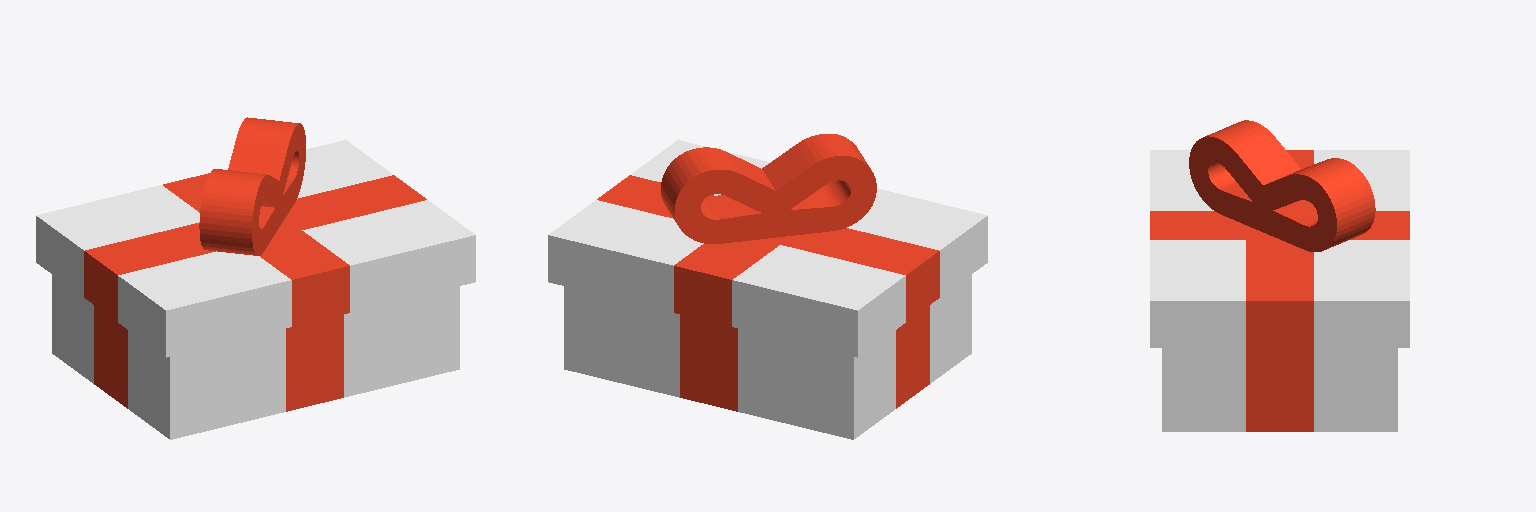
File: presentLow.obj
3 views of the same model, side by side, from view 1: azimuth 30°, elevation 25°; view 2: azimuth 150°, elevation 25°; view 3: azimuth 270°, elevation 25° (orthographic).
Parts seen in each view (by area): view 1: lid, presentLow; view 2: lid, presentLow; view 3: lid, presentLow.
Part boxes in pixels (left/top/right/bottom): lid: left=36, top=117, right=475, bottom=357; presentLow: left=52, top=275, right=459, bottom=439; lid: left=548, top=134, right=987, bottom=357; presentLow: left=564, top=275, right=971, bottom=439; lid: left=1150, top=120, right=1409, bottom=347; presentLow: left=1162, top=348, right=1397, bottom=431.
Size of the model in its own units: 0.5127 by 0.3335 by 0.3727.